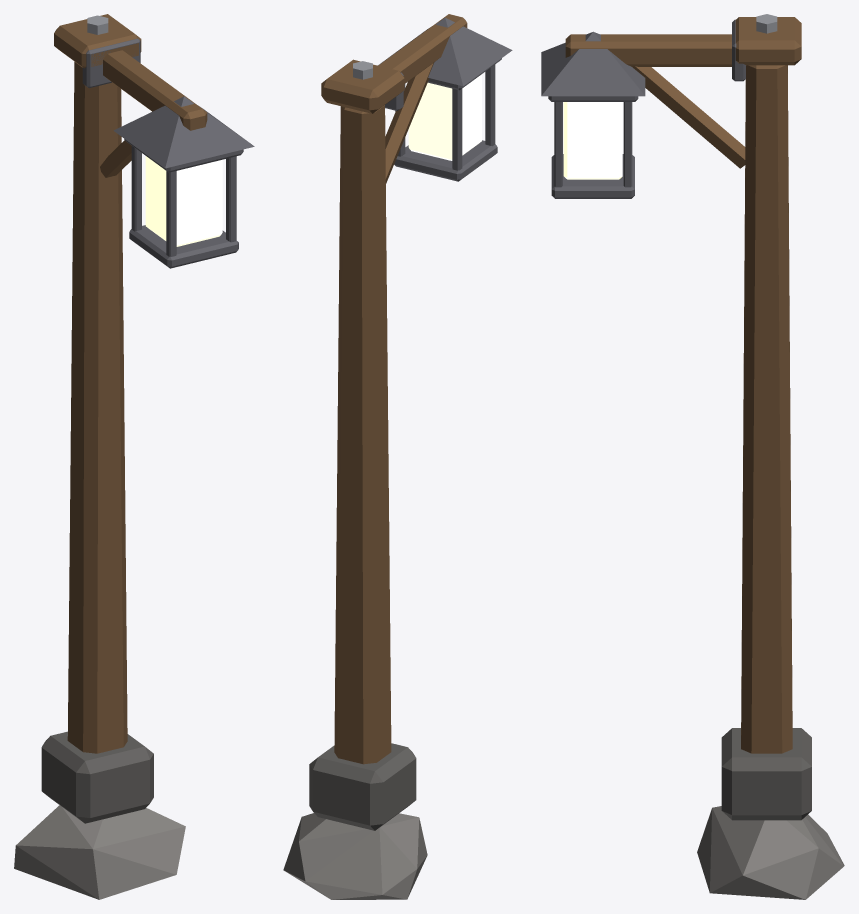
The model's file is lamp.glb.
3 renders of one model, left to right at view 1: azimuth 30°, elevation 25°; view 2: azimuth 150°, elevation 25°; view 3: azimuth 270°, elevation 25°, orthographic. The views are drawn at different scales.
Visible parts, largest first — view 1: Lamp; view 2: Lamp; view 3: Lamp.
Part boxes in pixels (x1=…): Lamp: x1=14, y1=14, x2=254, y2=899; Lamp: x1=283, y1=14, x2=512, y2=899; Lamp: x1=541, y1=14, x2=844, y2=899.
Size of the model in its own units: 0.4869 by 2.7 by 0.8743.
